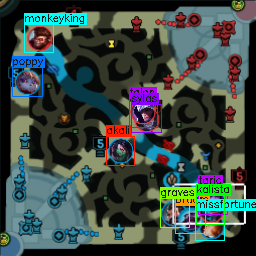akali: (108, 137, 132, 163)
braum: (178, 209, 204, 233)
graves: (161, 200, 187, 226)
kalista: (199, 199, 224, 221)
missfortune: (199, 214, 222, 238)
monkeyking: (25, 24, 52, 50)
poppy: (15, 68, 40, 93)
sylas: (134, 107, 159, 131)
talon: (130, 97, 155, 123)
taric: (201, 187, 225, 212)
